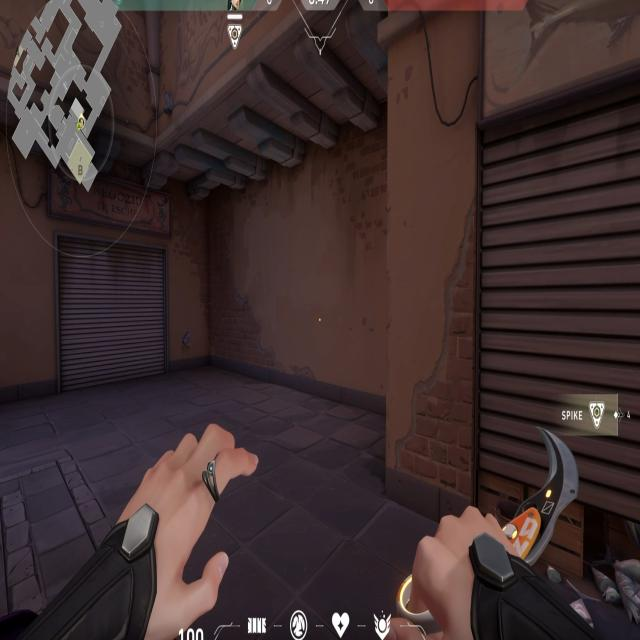B_Main_Corner: (365, 12, 640, 614)
